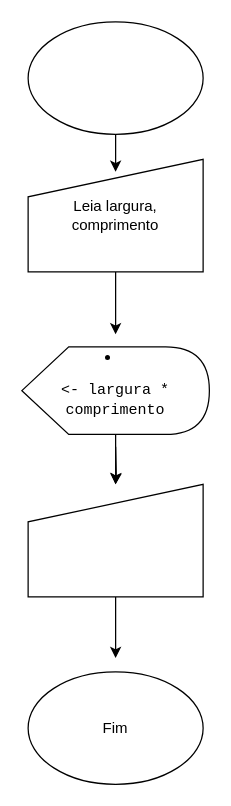
This 231x806 diagram has some shape labels left out. The centre of each missing label's shape, as x and y in pixels:
"Exibir area" goes at [115,540].
"Inicio" goes at [115,77].
